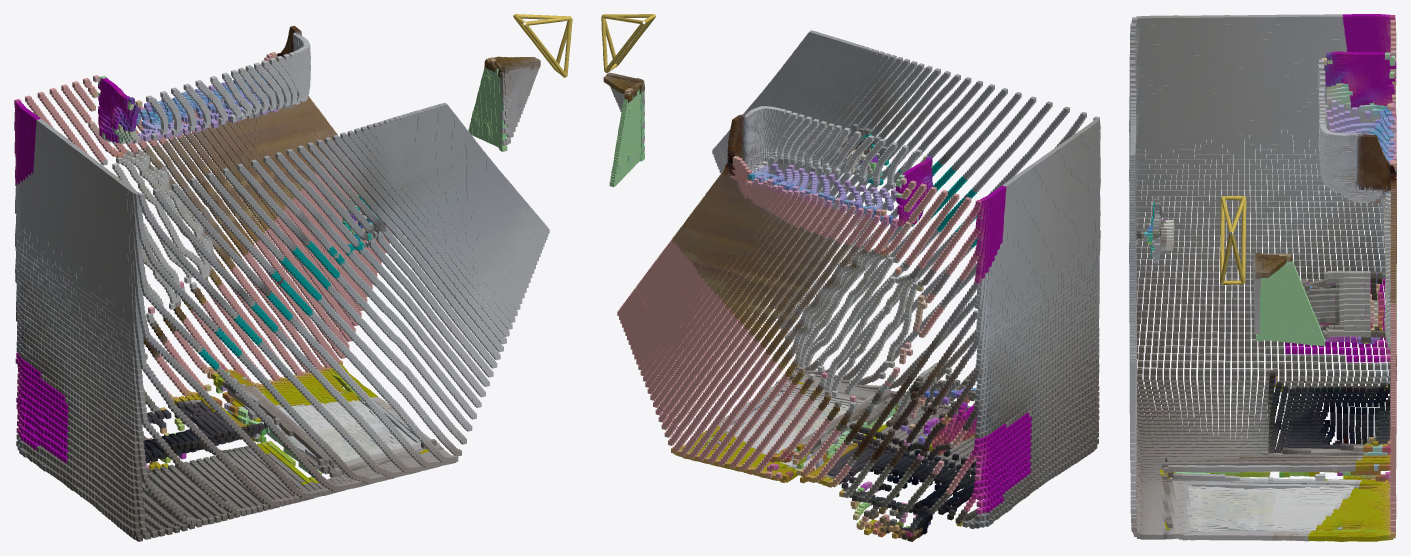
3 views of the same model, side by side, from view 1: azimuth 30°, elevation 25°; view 2: azimuth 150°, elevation 25°; view 3: azimuth 270°, elevation 25° (orthographic). The views are drawn at different scales.
Bounding box in the file's own units: 5.4 × 4.54 × 2.5.
